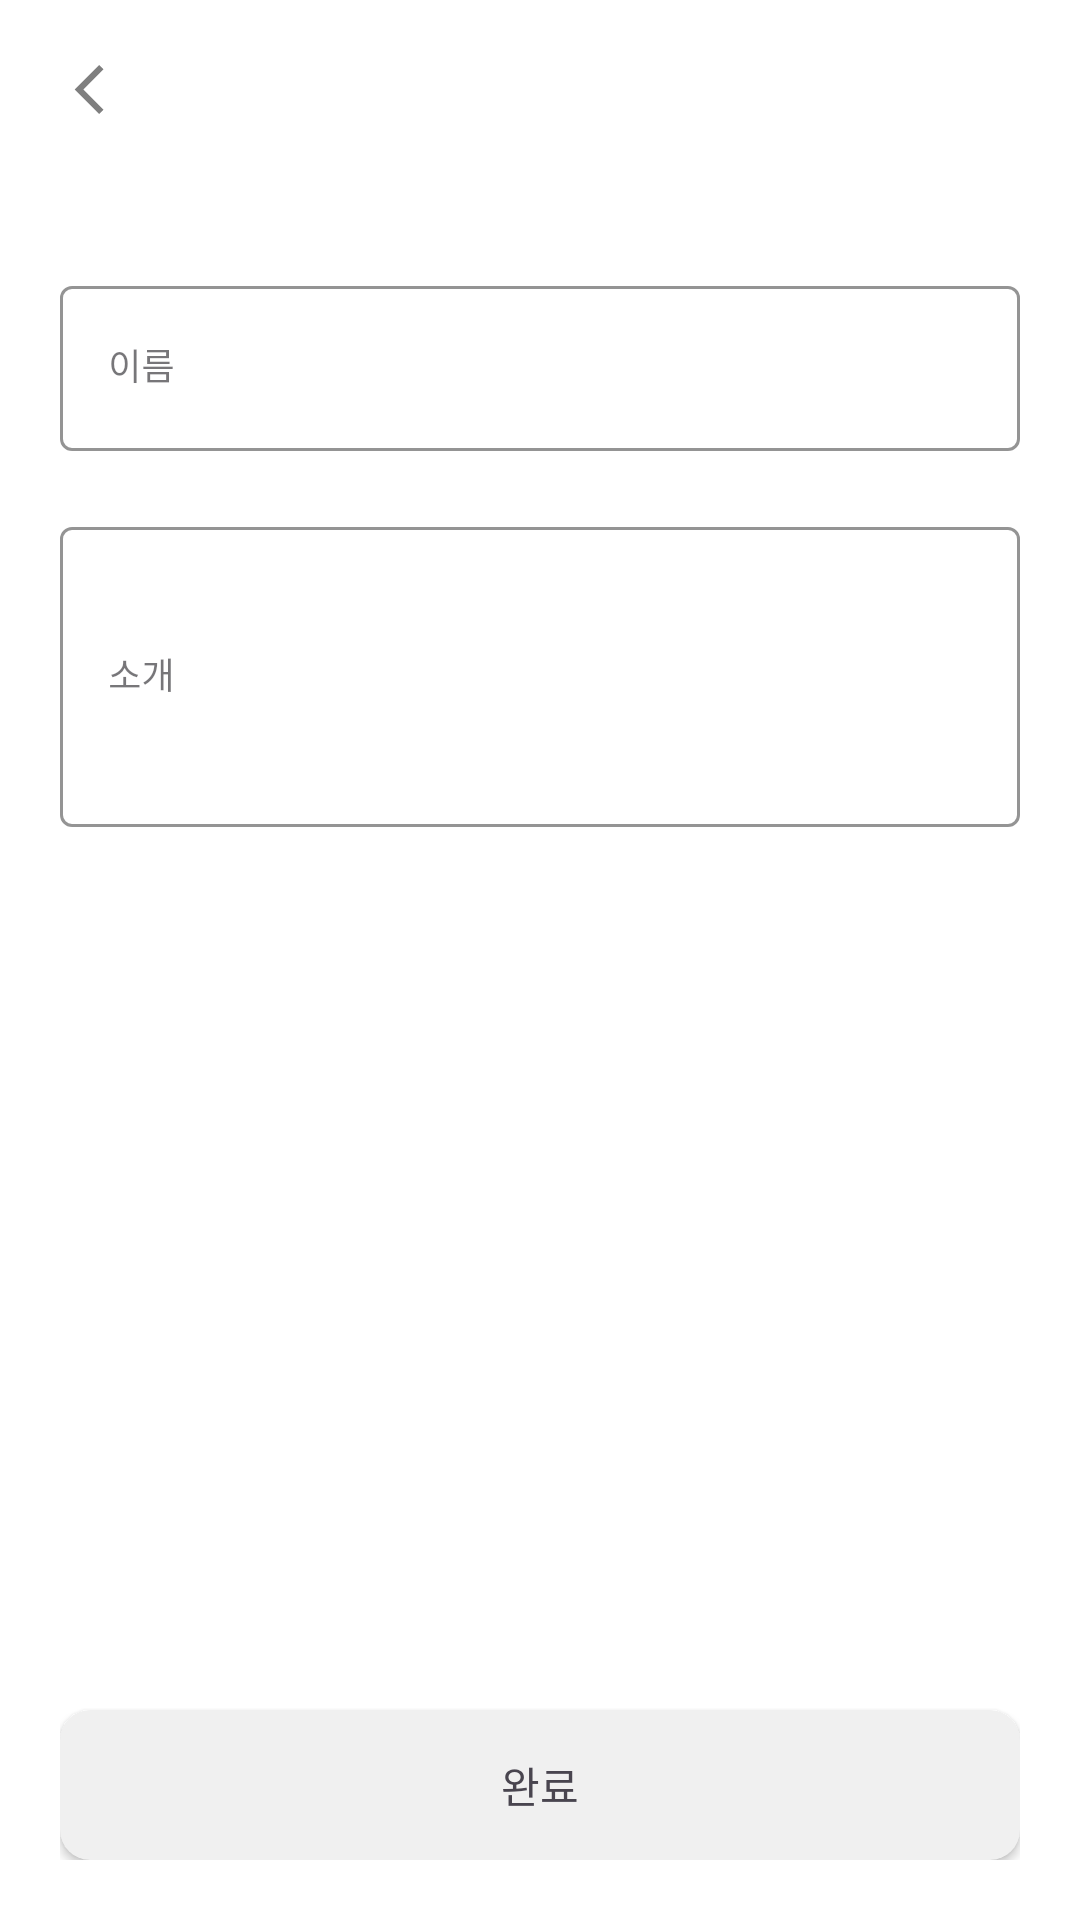

Screen size 1080px×1920px. Icon name, then its box in pixels as (x1, y1, x2, y2):
arrow back: (75, 65, 104, 114)
